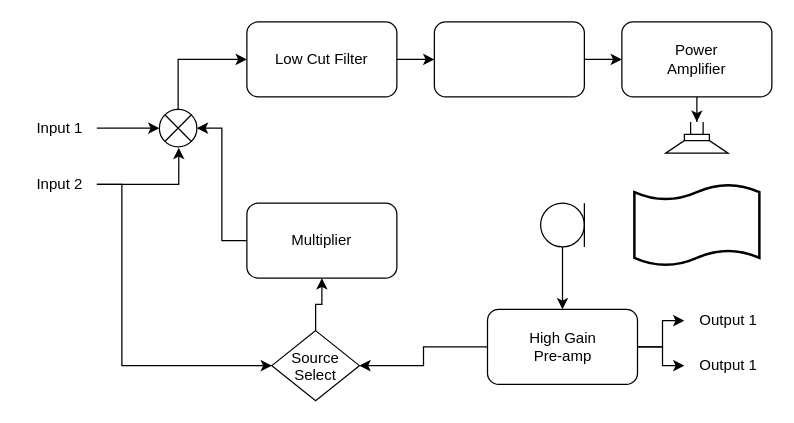
Image size: 794x423. Some labels were removed from this diagram. The shapes that lost their labels are listed below. From the top down, each one's centre as x and y in pixels, then its label:
the point at 508,59: Resonant Low Pass Filter
the point at 561,224: Piezo Microphone
the point at 696,224: Plate
